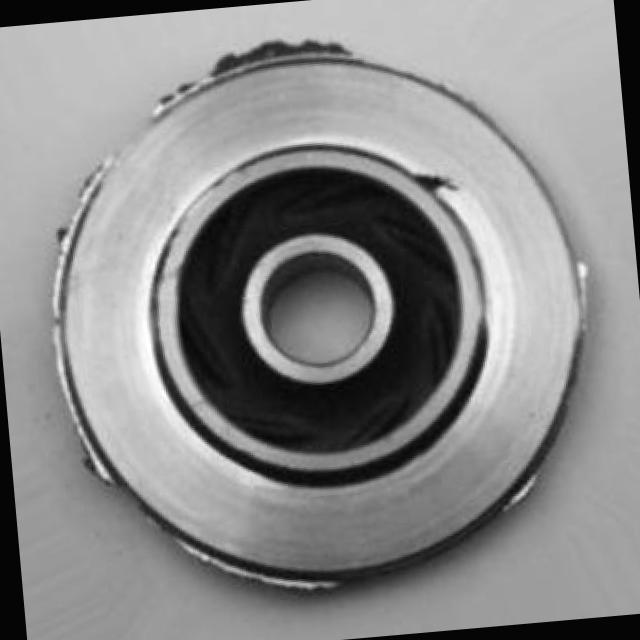Defect: (204, 23, 327, 76)
